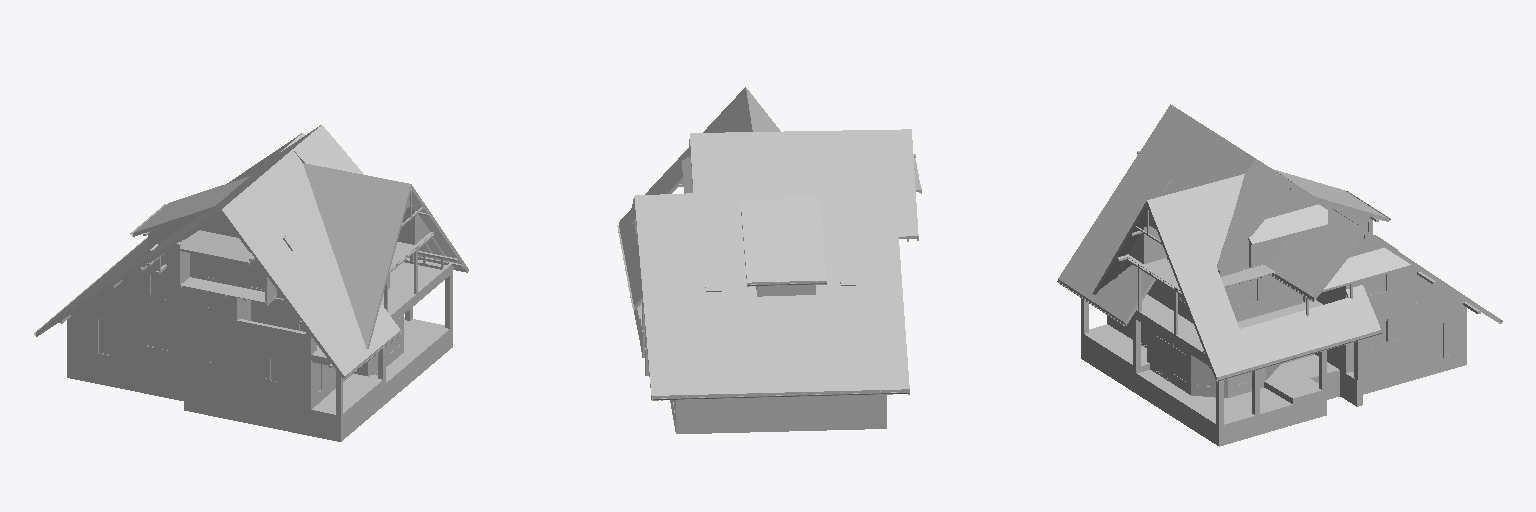
File: Casa Cosari.obj
3 renders of one model, left to right at view 1: azimuth 30°, elevation 25°; view 2: azimuth 150°, elevation 25°; view 3: azimuth 270°, elevation 25°, orthographic.
Parts seen in each view (by area): view 1: Acoperis, Caramida, Ciment_Horizontal, OSB, Ciment_Flat, Ciment_Vertical, Lemn_Finisat, Glass, Termopan, Scandura_Finisat; view 2: Acoperis, Ciment_Horizontal, Caramida, Burlane, Glass; view 3: Acoperis, Ciment_Horizontal, Caramida, Ciment_Flat, OSB, Glass, Ciment_Vertical, Lemn_Finisat, Termopan, Burlane.
Boxes of the visible parts, <box> form: Acoperis: <box>36,125,467,378</box>; Caramida: <box>72,236,400,408</box>; Ciment_Horizontal: <box>67,232,452,441</box>; OSB: <box>151,200,433,302</box>; Ciment_Flat: <box>276,258,448,414</box>; Ciment_Vertical: <box>67,235,452,415</box>; Lemn_Finisat: <box>36,187,467,378</box>; Glass: <box>136,234,399,390</box>; Termopan: <box>97,233,400,392</box>; Scandura_Finisat: <box>409,193,463,269</box>; Acoperis: <box>619,87,921,397</box>; Ciment_Horizontal: <box>634,309,886,433</box>; Caramida: <box>672,285,881,407</box>; Burlane: <box>617,223,909,400</box>; Glass: <box>705,264,855,290</box>; Acoperis: <box>1058,104,1500,379</box>; Ciment_Horizontal: <box>1081,218,1466,446</box>; Caramida: <box>1111,223,1463,397</box>; Ciment_Flat: <box>1085,294,1362,424</box>; OSB: <box>1124,188,1383,290</box>; Glass: <box>1141,175,1397,386</box>; Ciment_Vertical: <box>1081,221,1466,425</box>; Lemn_Finisat: <box>1094,151,1500,380</box>; Termopan: <box>1141,174,1451,387</box>; Burlane: <box>1057,191,1502,381</box>.
Size of the model in its own units: 70.84 by 40.76 by 75.18.